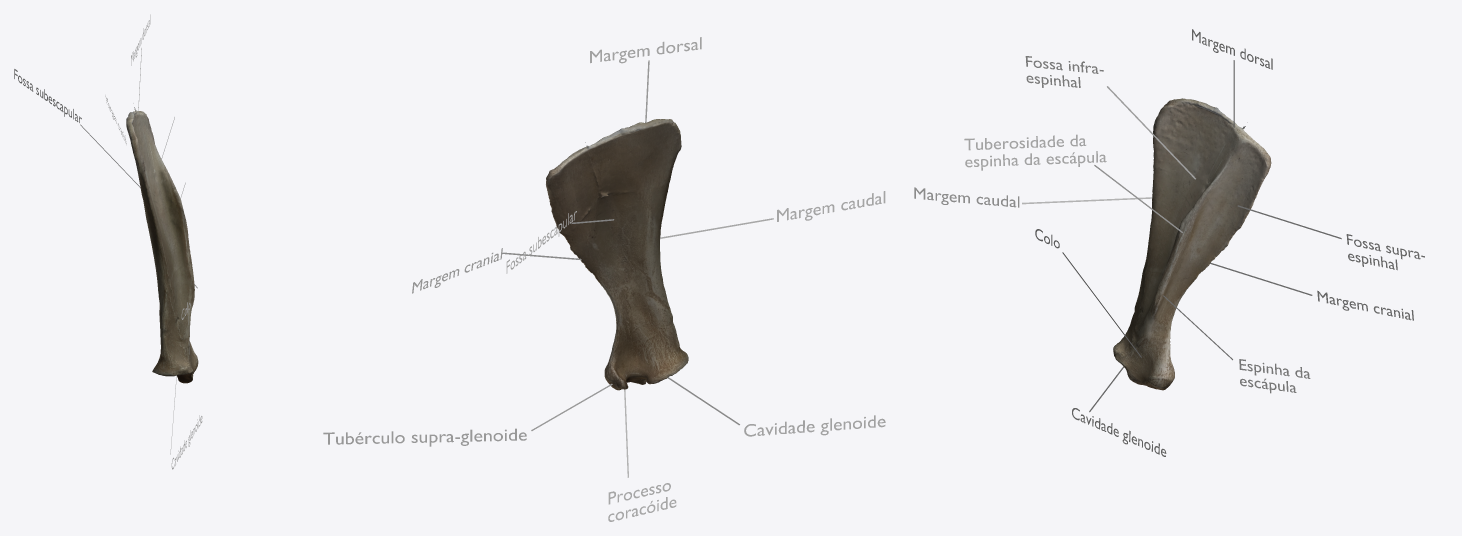
The model's file is Escápula_Direita.glb.
3 renders of one model, left to right at view 1: azimuth 30°, elevation 25°; view 2: azimuth 150°, elevation 25°; view 3: azimuth 270°, elevation 25°, orthographic. The views are drawn at different scales.
Visible parts, largest first — view 1: 3DModel, Texto.027; view 2: 3DModel, Texto.020, Texto.002, Texto.075; view 3: 3DModel, Texto.034, Texto.024, Texto.052.
Boxes of the visible parts, x1,y1,x2,y2 form: 3DModel: (126, 103, 198, 383); Texto.027: (14, 69, 81, 122); 3DModel: (546, 119, 688, 390); Texto.020: (323, 428, 526, 446); Texto.002: (744, 415, 885, 436); Texto.075: (608, 483, 676, 521); 3DModel: (1113, 98, 1271, 390); Texto.034: (964, 134, 1106, 170); Texto.024: (1239, 359, 1310, 393); Texto.052: (1025, 56, 1103, 87).
Bounding box in the file's own units: 2.43 × 2.98 × 3.19.
1 material, 1 textured.
